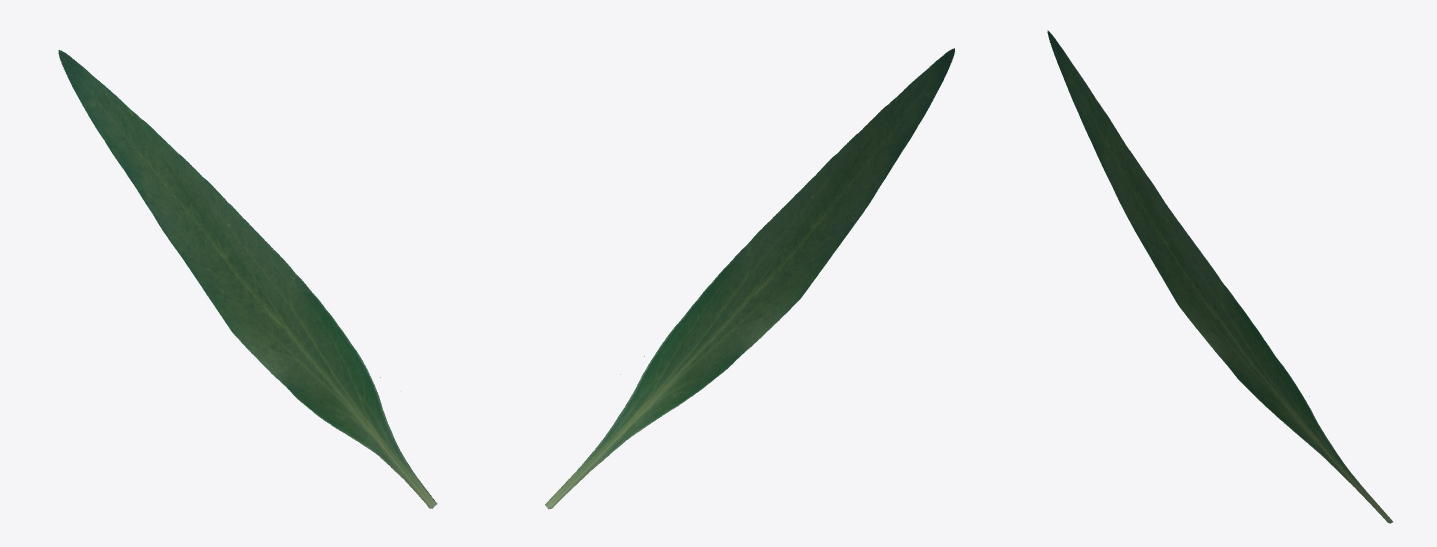
The picture shows the model from 3 angles, left to right: view 1: azimuth 30°, elevation 25°; view 2: azimuth 150°, elevation 25°; view 3: azimuth 330°, elevation 25°; orthographic projection. The views are drawn at different scales.
Parts seen in each view (by area): view 1: plant.002; view 2: plant.002; view 3: plant.002.
Boxes of the visible parts, x1,y1,x2,y2 form: plant.002: (58,50,437,508); plant.002: (545,48,954,509); plant.002: (1047,30,1392,523).
Bounding box in the file's own units: 1.1 × 1.33 × 0.1904.
Materials: 1 (1 with a texture image).
